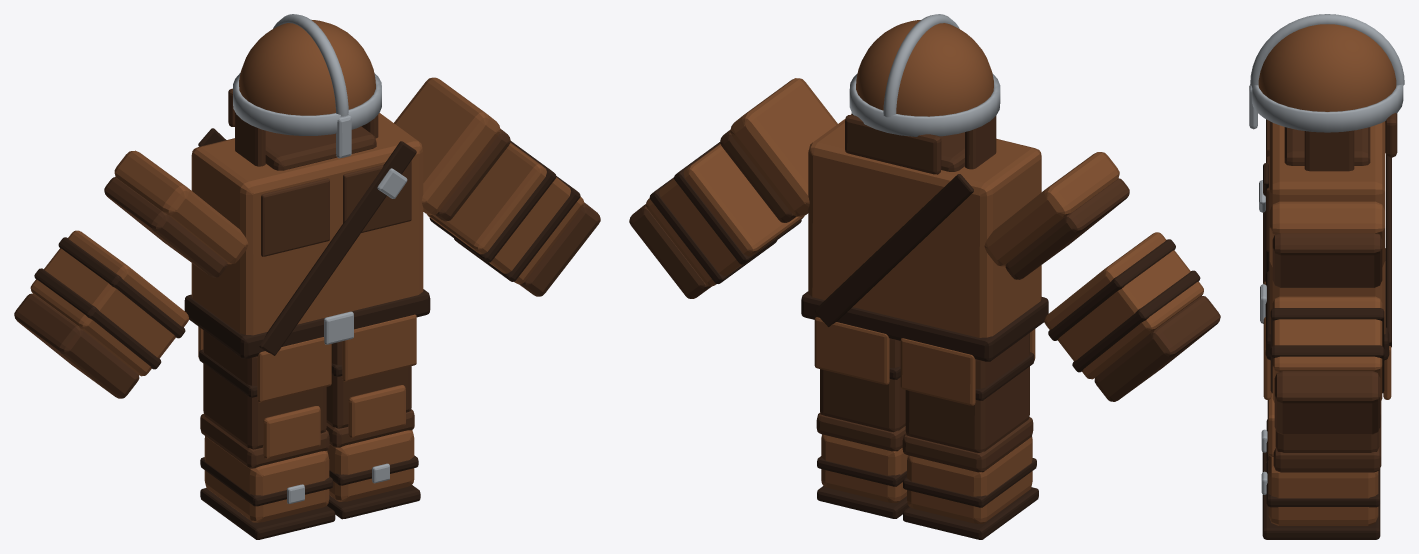
The model's file is LeatherArmorSet.glb.
The picture shows the model from 3 angles, left to right: view 1: azimuth 30°, elevation 25°; view 2: azimuth 150°, elevation 25°; view 3: azimuth 270°, elevation 25°; orthographic projection.
Parts seen in each view (by area): view 1: LeatherChestplate, Right (×3), Left (×3), LeatherHelmet; view 2: LeatherChestplate, Right (×3), Left (×3), LeatherHelmet; view 3: Left (×3), LeatherHelmet, LeatherChestplate, Right.
Boxes of the visible parts, x1=… form: LeatherChestplate: x1=184, y1=113, x2=430, y2=402; Right (×3): x1=14, y1=150, x2=335, y2=539; Left (×3): x1=326, y1=77, x2=600, y2=519; LeatherHelmet: x1=228, y1=14, x2=381, y2=166; LeatherChestplate: x1=801, y1=114, x2=1048, y2=405; Right (×3): x1=902, y1=152, x2=1220, y2=539; Left (×3): x1=629, y1=78, x2=909, y2=518; LeatherHelmet: x1=845, y1=14, x2=1000, y2=174; Left (×3): x1=1261, y1=201, x2=1385, y2=539; LeatherHelmet: x1=1249, y1=14, x2=1404, y2=171; LeatherChestplate: x1=1259, y1=119, x2=1391, y2=399; Right: x1=1261, y1=401, x2=1381, y2=471.
Size of the model in its own units: 6.34 by 5.37 by 1.56.
